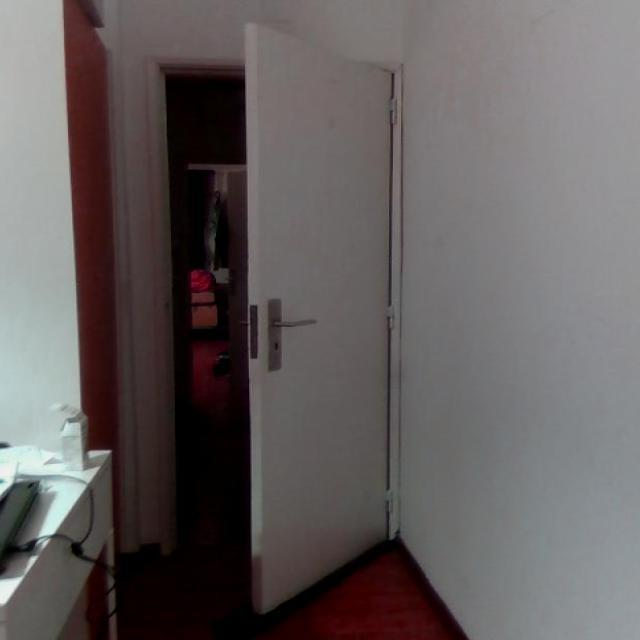door: (243, 21, 395, 614)
